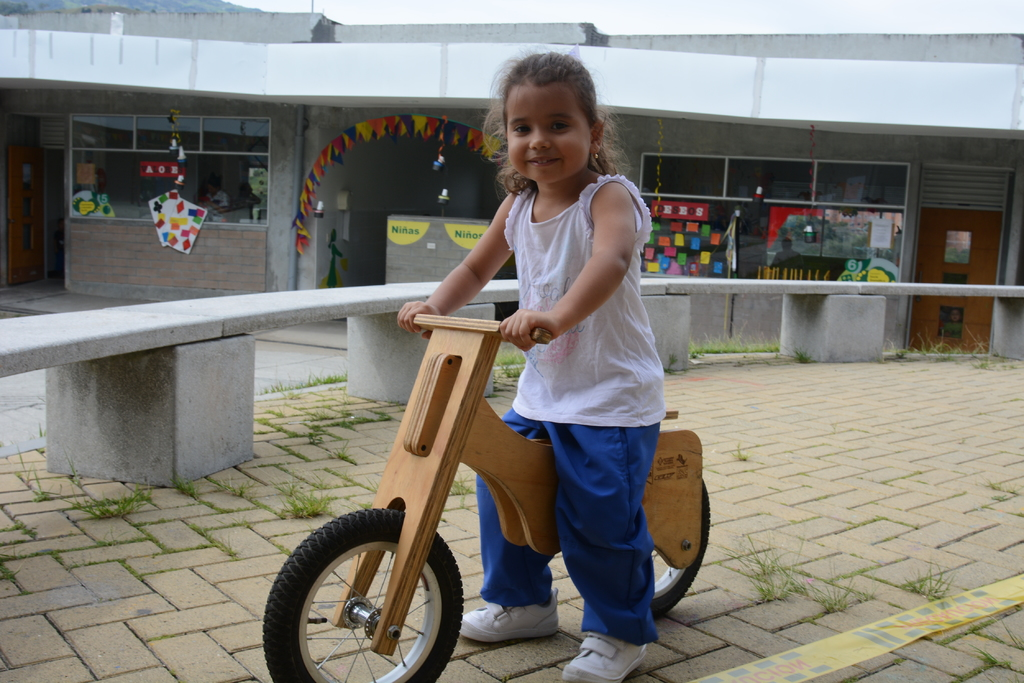bicycle: (257, 307, 715, 682)
